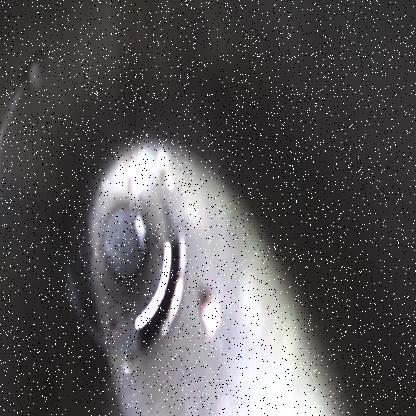Crack2: (134, 232, 184, 354)
